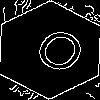O: (25, 25, 90, 85)
